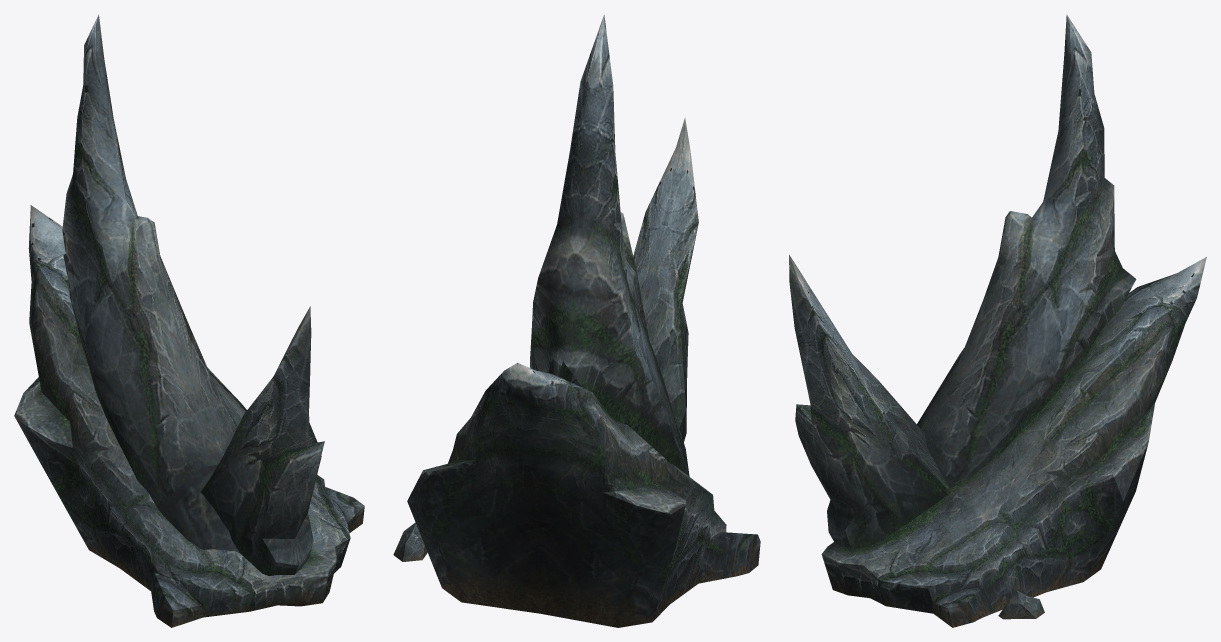
File: dx_shitou_12.FBX
3 views of the same model, side by side, from view 1: azimuth 30°, elevation 25°; view 2: azimuth 150°, elevation 25°; view 3: azimuth 270°, elevation 25° (orthographic). The views are drawn at different scales.
Visible parts, largest first — view 1: dx_shitou_12; view 2: dx_shitou_12; view 3: dx_shitou_12.
Boxes of the visible parts, left/top/right/bottom form: dx_shitou_12: left=14, top=14, right=364, bottom=627; dx_shitou_12: left=393, top=15, right=760, bottom=627; dx_shitou_12: left=789, top=14, right=1206, bottom=627.
Bounding box in the file's own units: 284 × 521 × 373.
